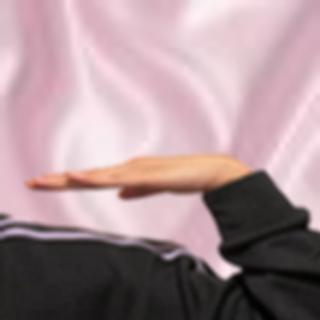Wait: (20, 141, 252, 205)
